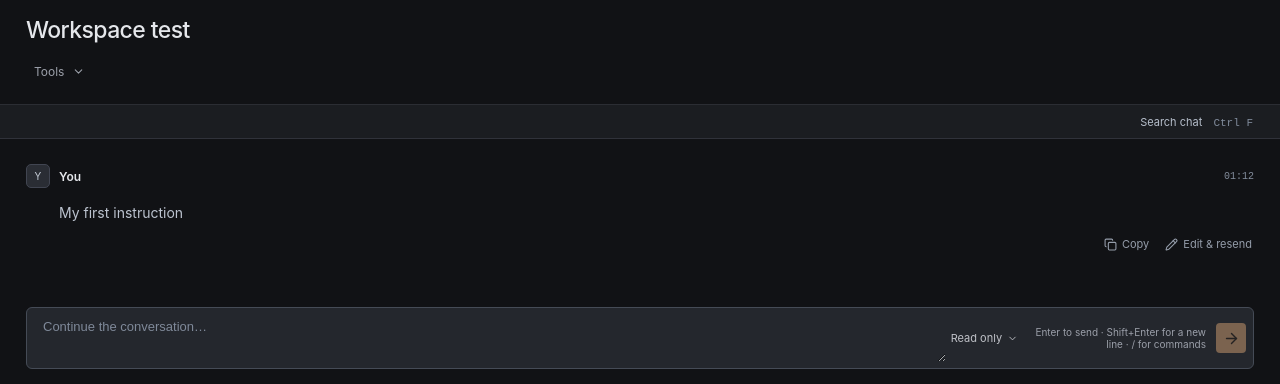
Test case: files open alongside the conversation and first instructions are not duplicated
(page scrolled)
Check: the heading "Workspace test" is shown, box [26,16,190,44]
Click the heading "Tools" at (60, 72), box [34,64,86,79]
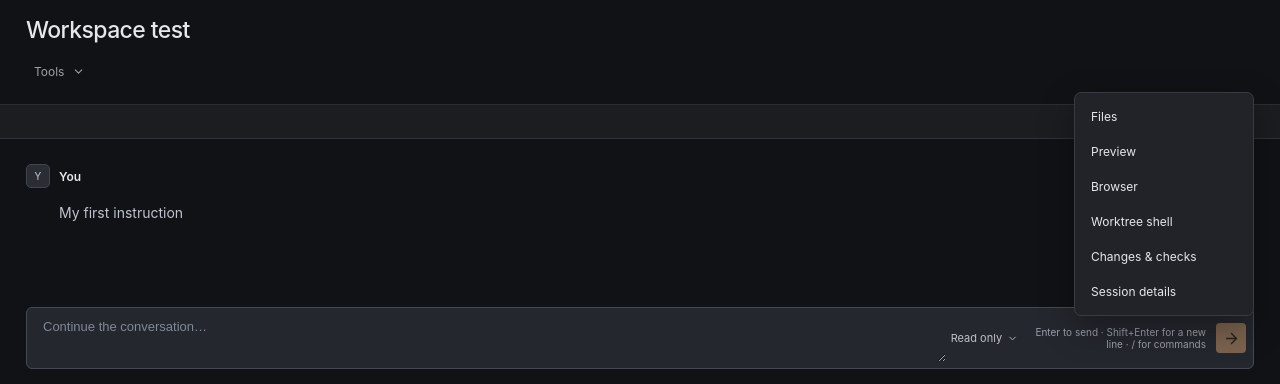
Click the button "Files" at (1164, 116), box [1081,99,1247,134]
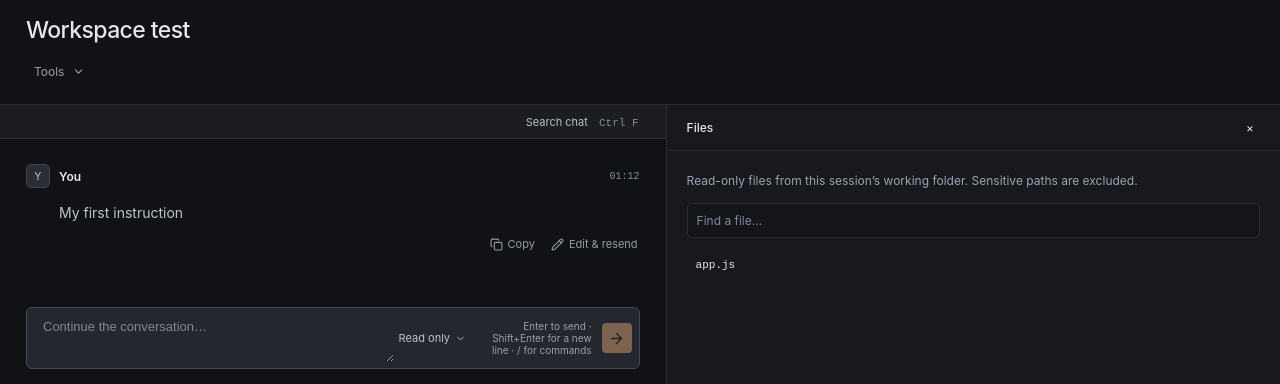
Click the button "app.js" at (715, 265), box [687,250,1260,282]
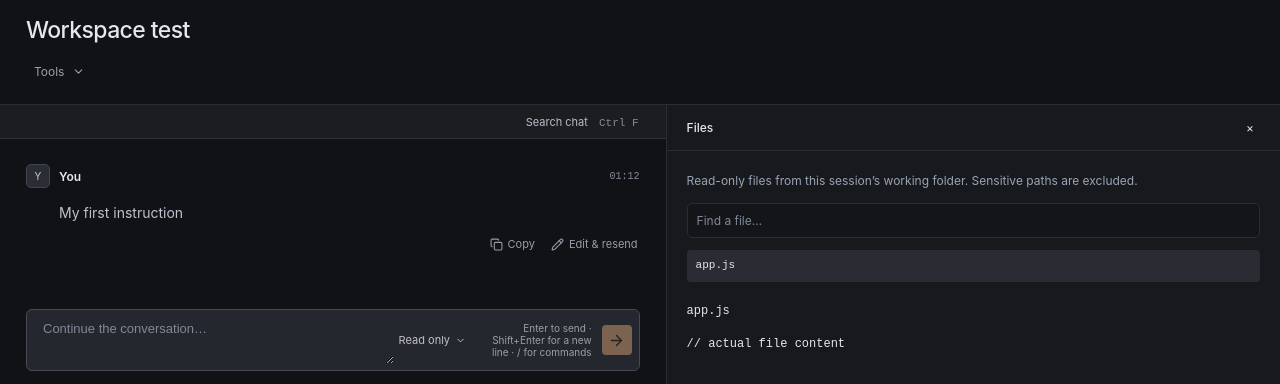
Check: the text "My first instruction" is shown once, box [59,204,183,221]
Check: the text "// actual file content" is shown, box [687,337,845,351]
